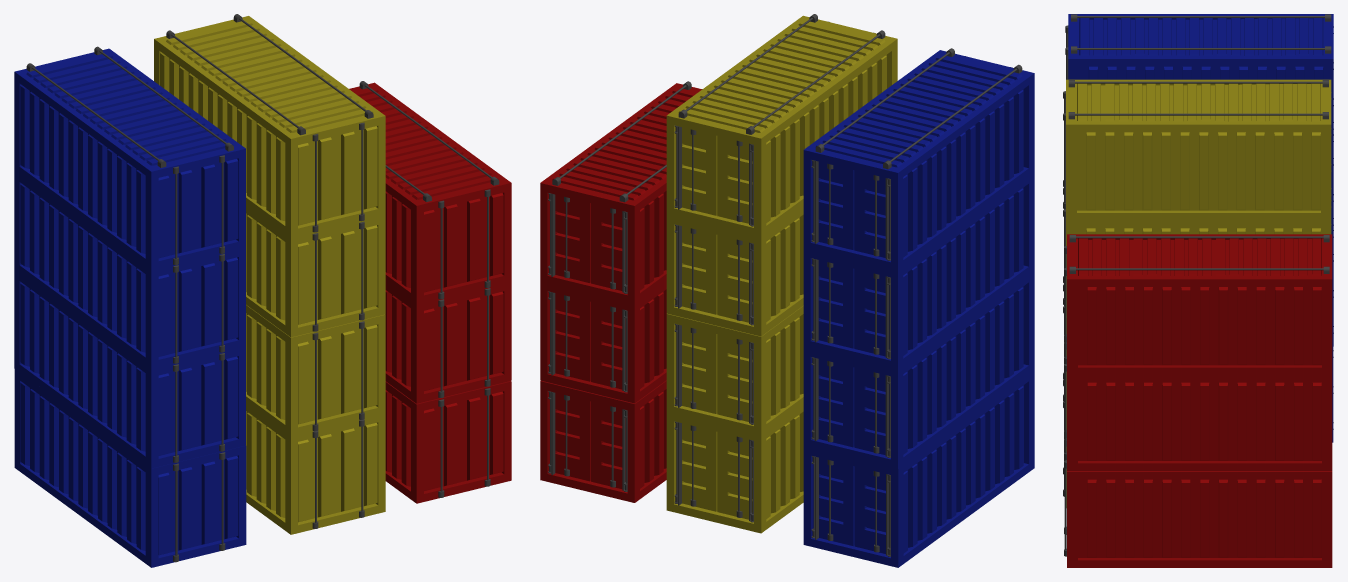
File: tumpukan3.obj
3 views of the same model, side by side, from view 1: azimuth 30°, elevation 25°; view 2: azimuth 150°, elevation 25°; view 3: azimuth 270°, elevation 25° (orthographic). The views are drawn at different scales.
Visible parts, largest first — view 1: ContainerMerah.006; view 2: ContainerMerah.006; view 3: ContainerMerah.006.
Part boxes in pixels (box(x1,y1,x2,y2)): ContainerMerah.006: box(14, 14, 511, 567); ContainerMerah.006: box(540, 14, 1034, 567); ContainerMerah.006: box(1063, 14, 1333, 567).
Bounding box in the file's own units: 22.9 × 24.47 × 15.41.
